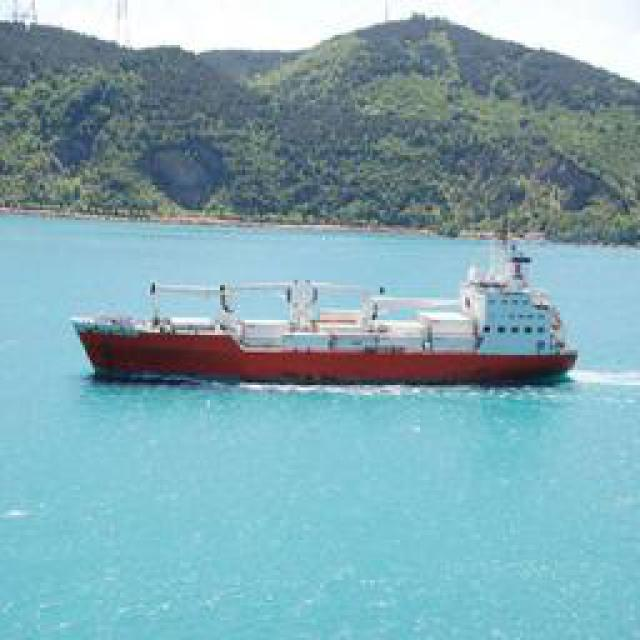Ship: (95, 270, 583, 393)
